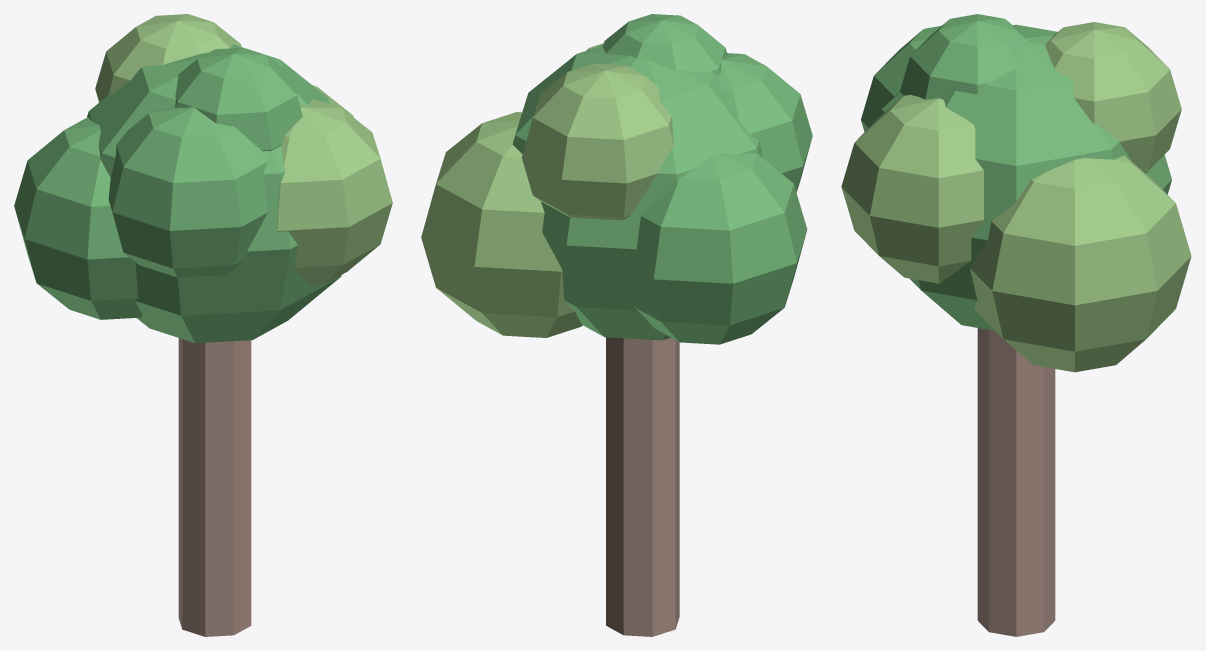
Rendered from tree_bushy.glb.
The picture shows the model from 3 angles, left to right: view 1: azimuth 30°, elevation 25°; view 2: azimuth 150°, elevation 25°; view 3: azimuth 270°, elevation 25°; orthographic projection. The views are drawn at different scales.
Visible parts, largest first — view 1: tree_bushy; view 2: tree_bushy; view 3: tree_bushy.
Part boxes in pixels (<box>): tree_bushy: <box>14,14,392,636</box>; tree_bushy: <box>421,14,812,636</box>; tree_bushy: <box>841,14,1191,636</box>.
Size of the model in its own units: 2.15 by 3.4 by 1.8.
